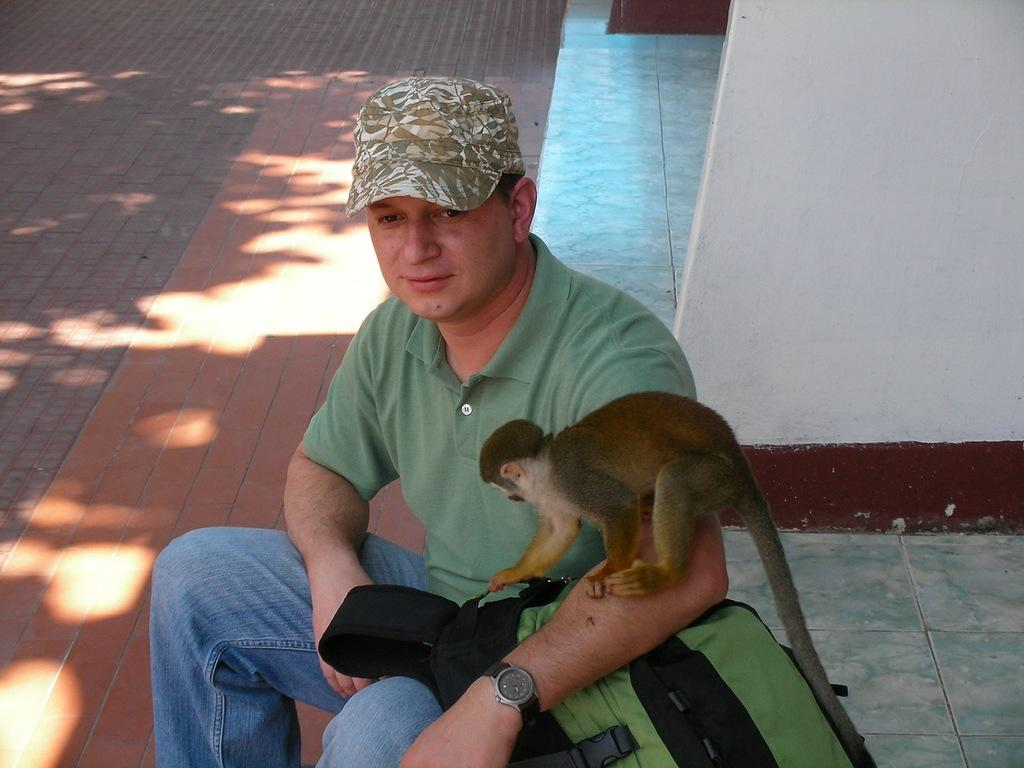Hat: (341, 75, 525, 214)
